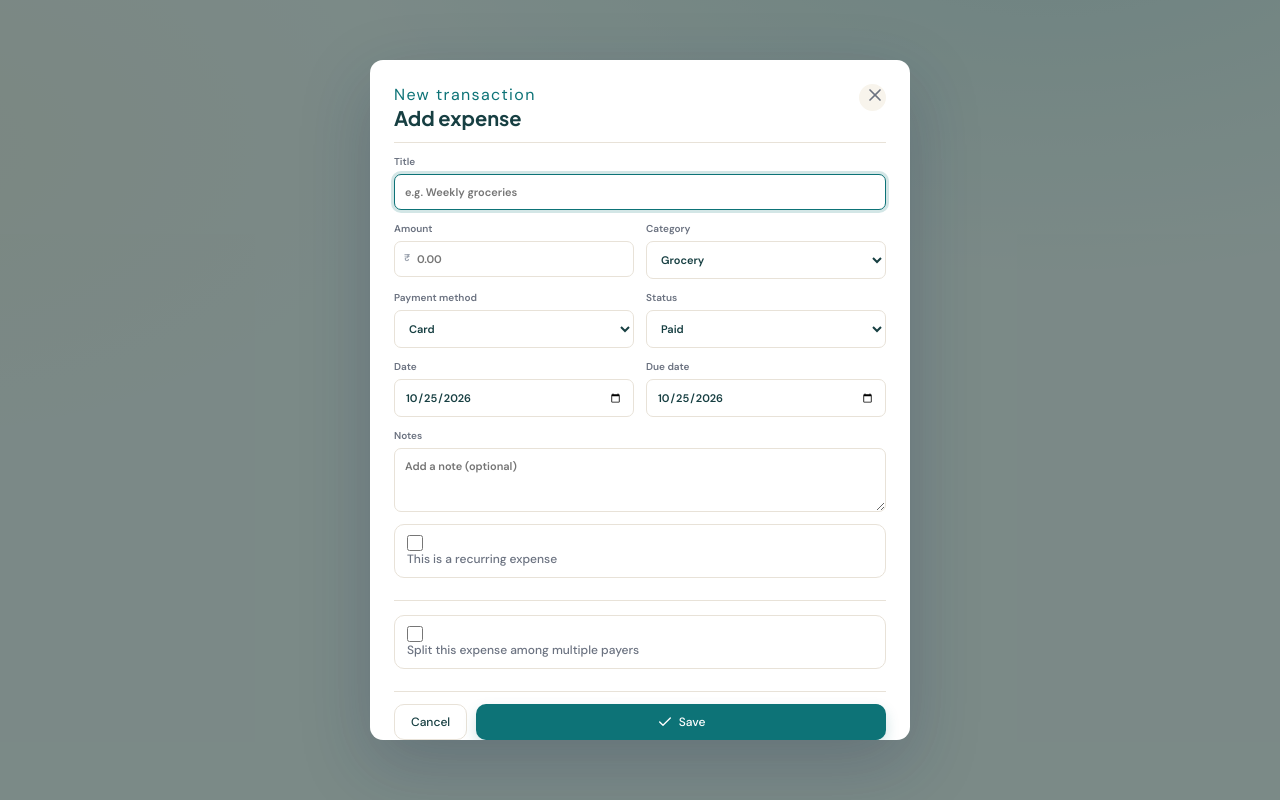
Scenario: ExpenseModal › requires a due date
The image size is (1280, 800).
In the field with placeholder "e.g. Weekly groceries": [640, 192] box x1=394 y1=174 x2=886 y2=210, type "Internet"
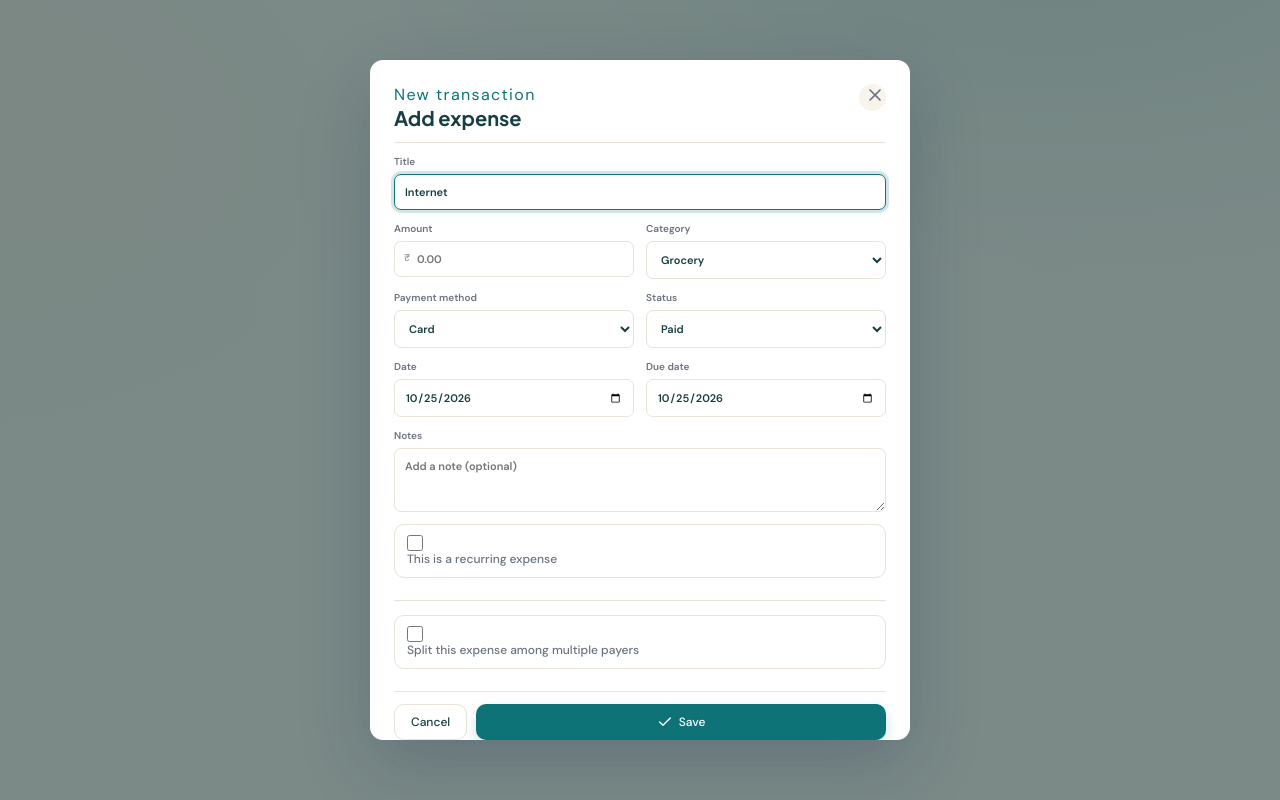
In the number field with placeholder "0.00": [514, 259] box x1=394 y1=241 x2=634 y2=277, type "999"
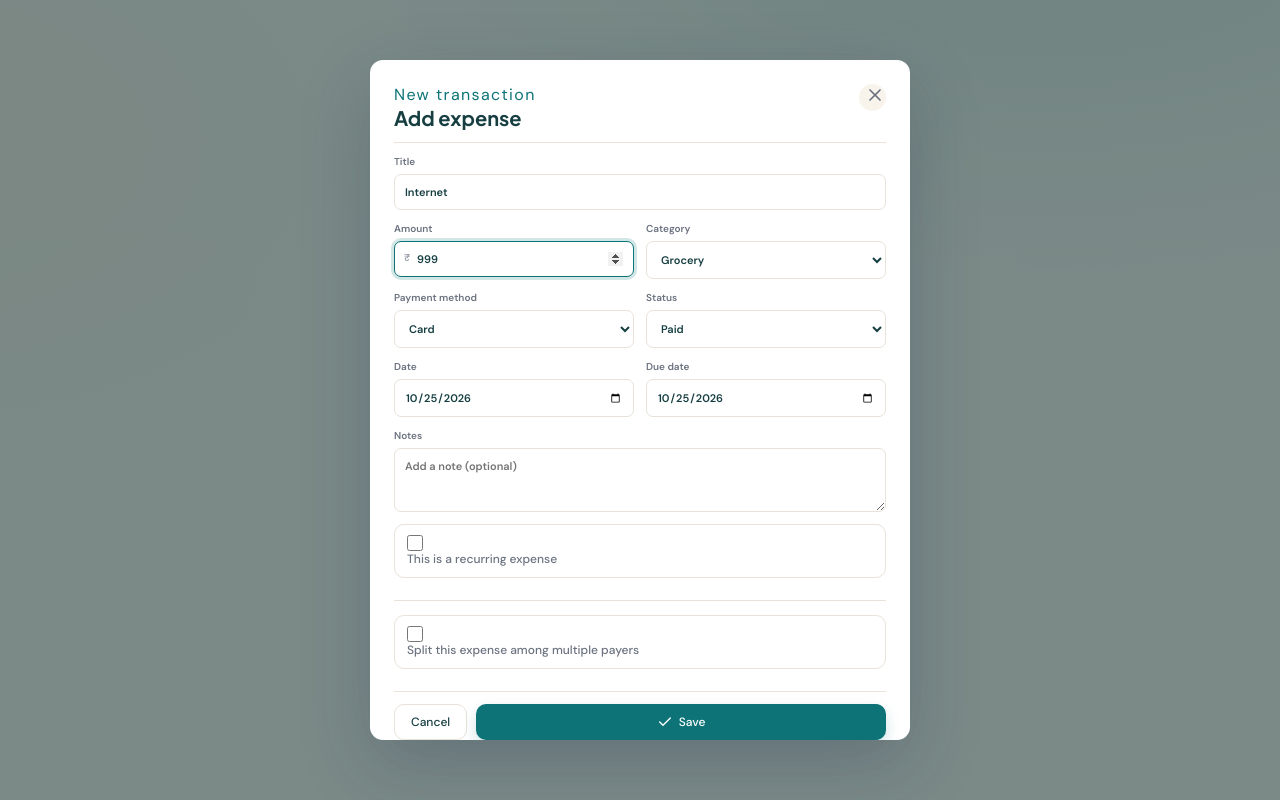
Clear the date field labelled "Due date": [766, 398] box x1=646 y1=379 x2=886 y2=417
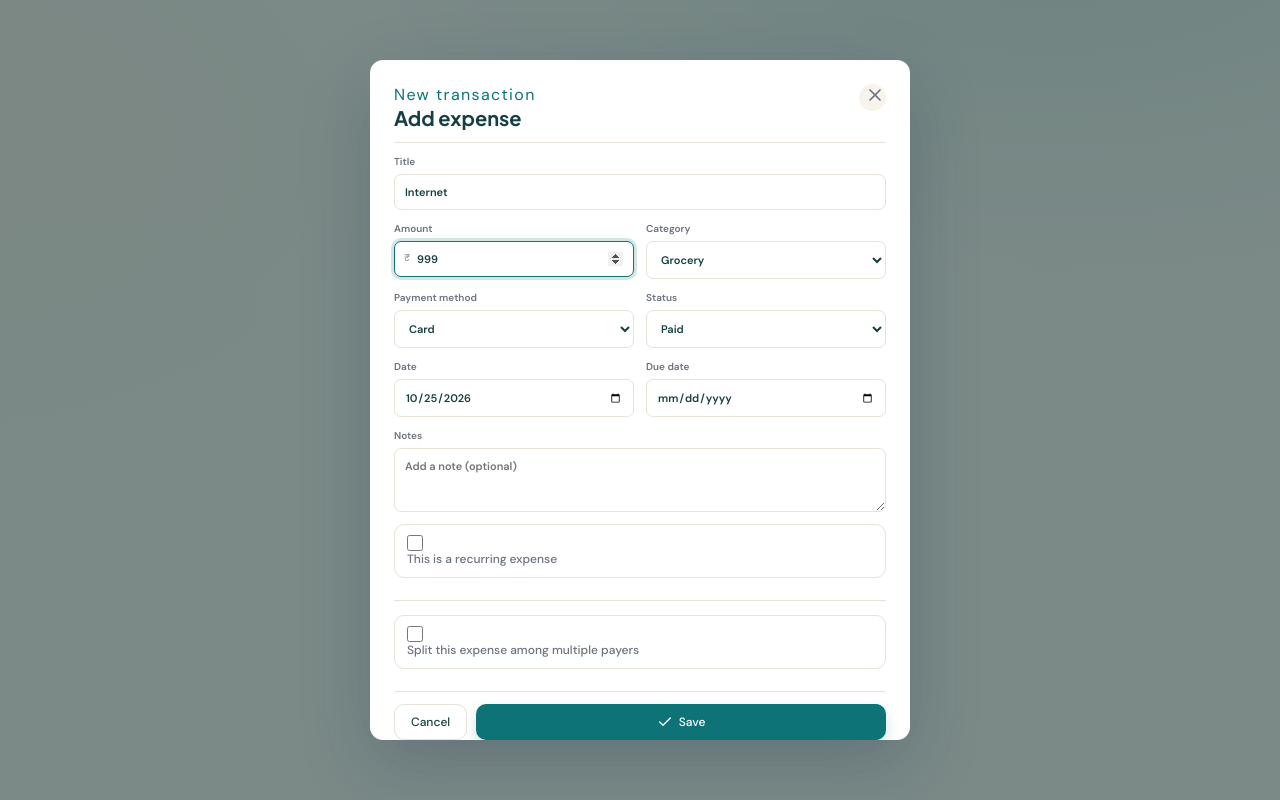
Click the button "Save": [681, 722] box x1=476 y1=704 x2=886 y2=740
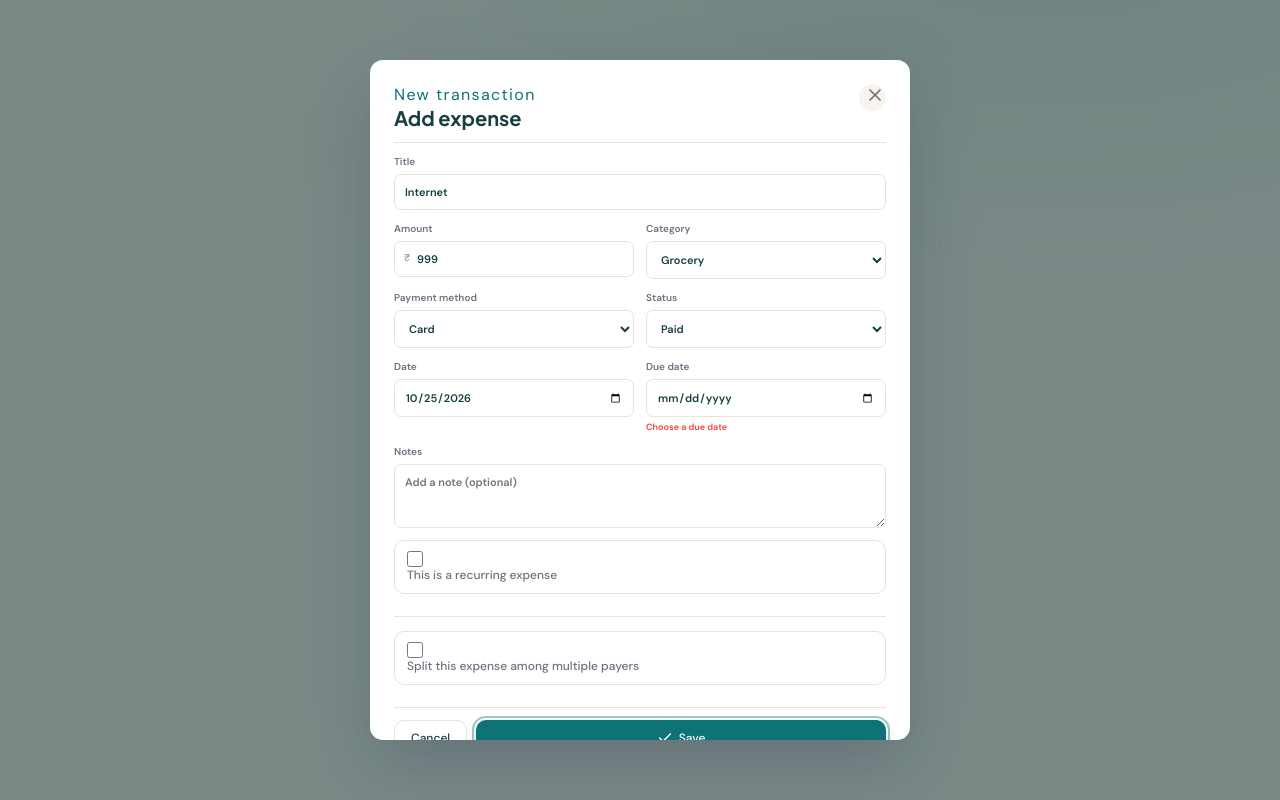
Result: the text "Choose a due date" is shown at x1=646 y1=421 x2=727 y2=433
